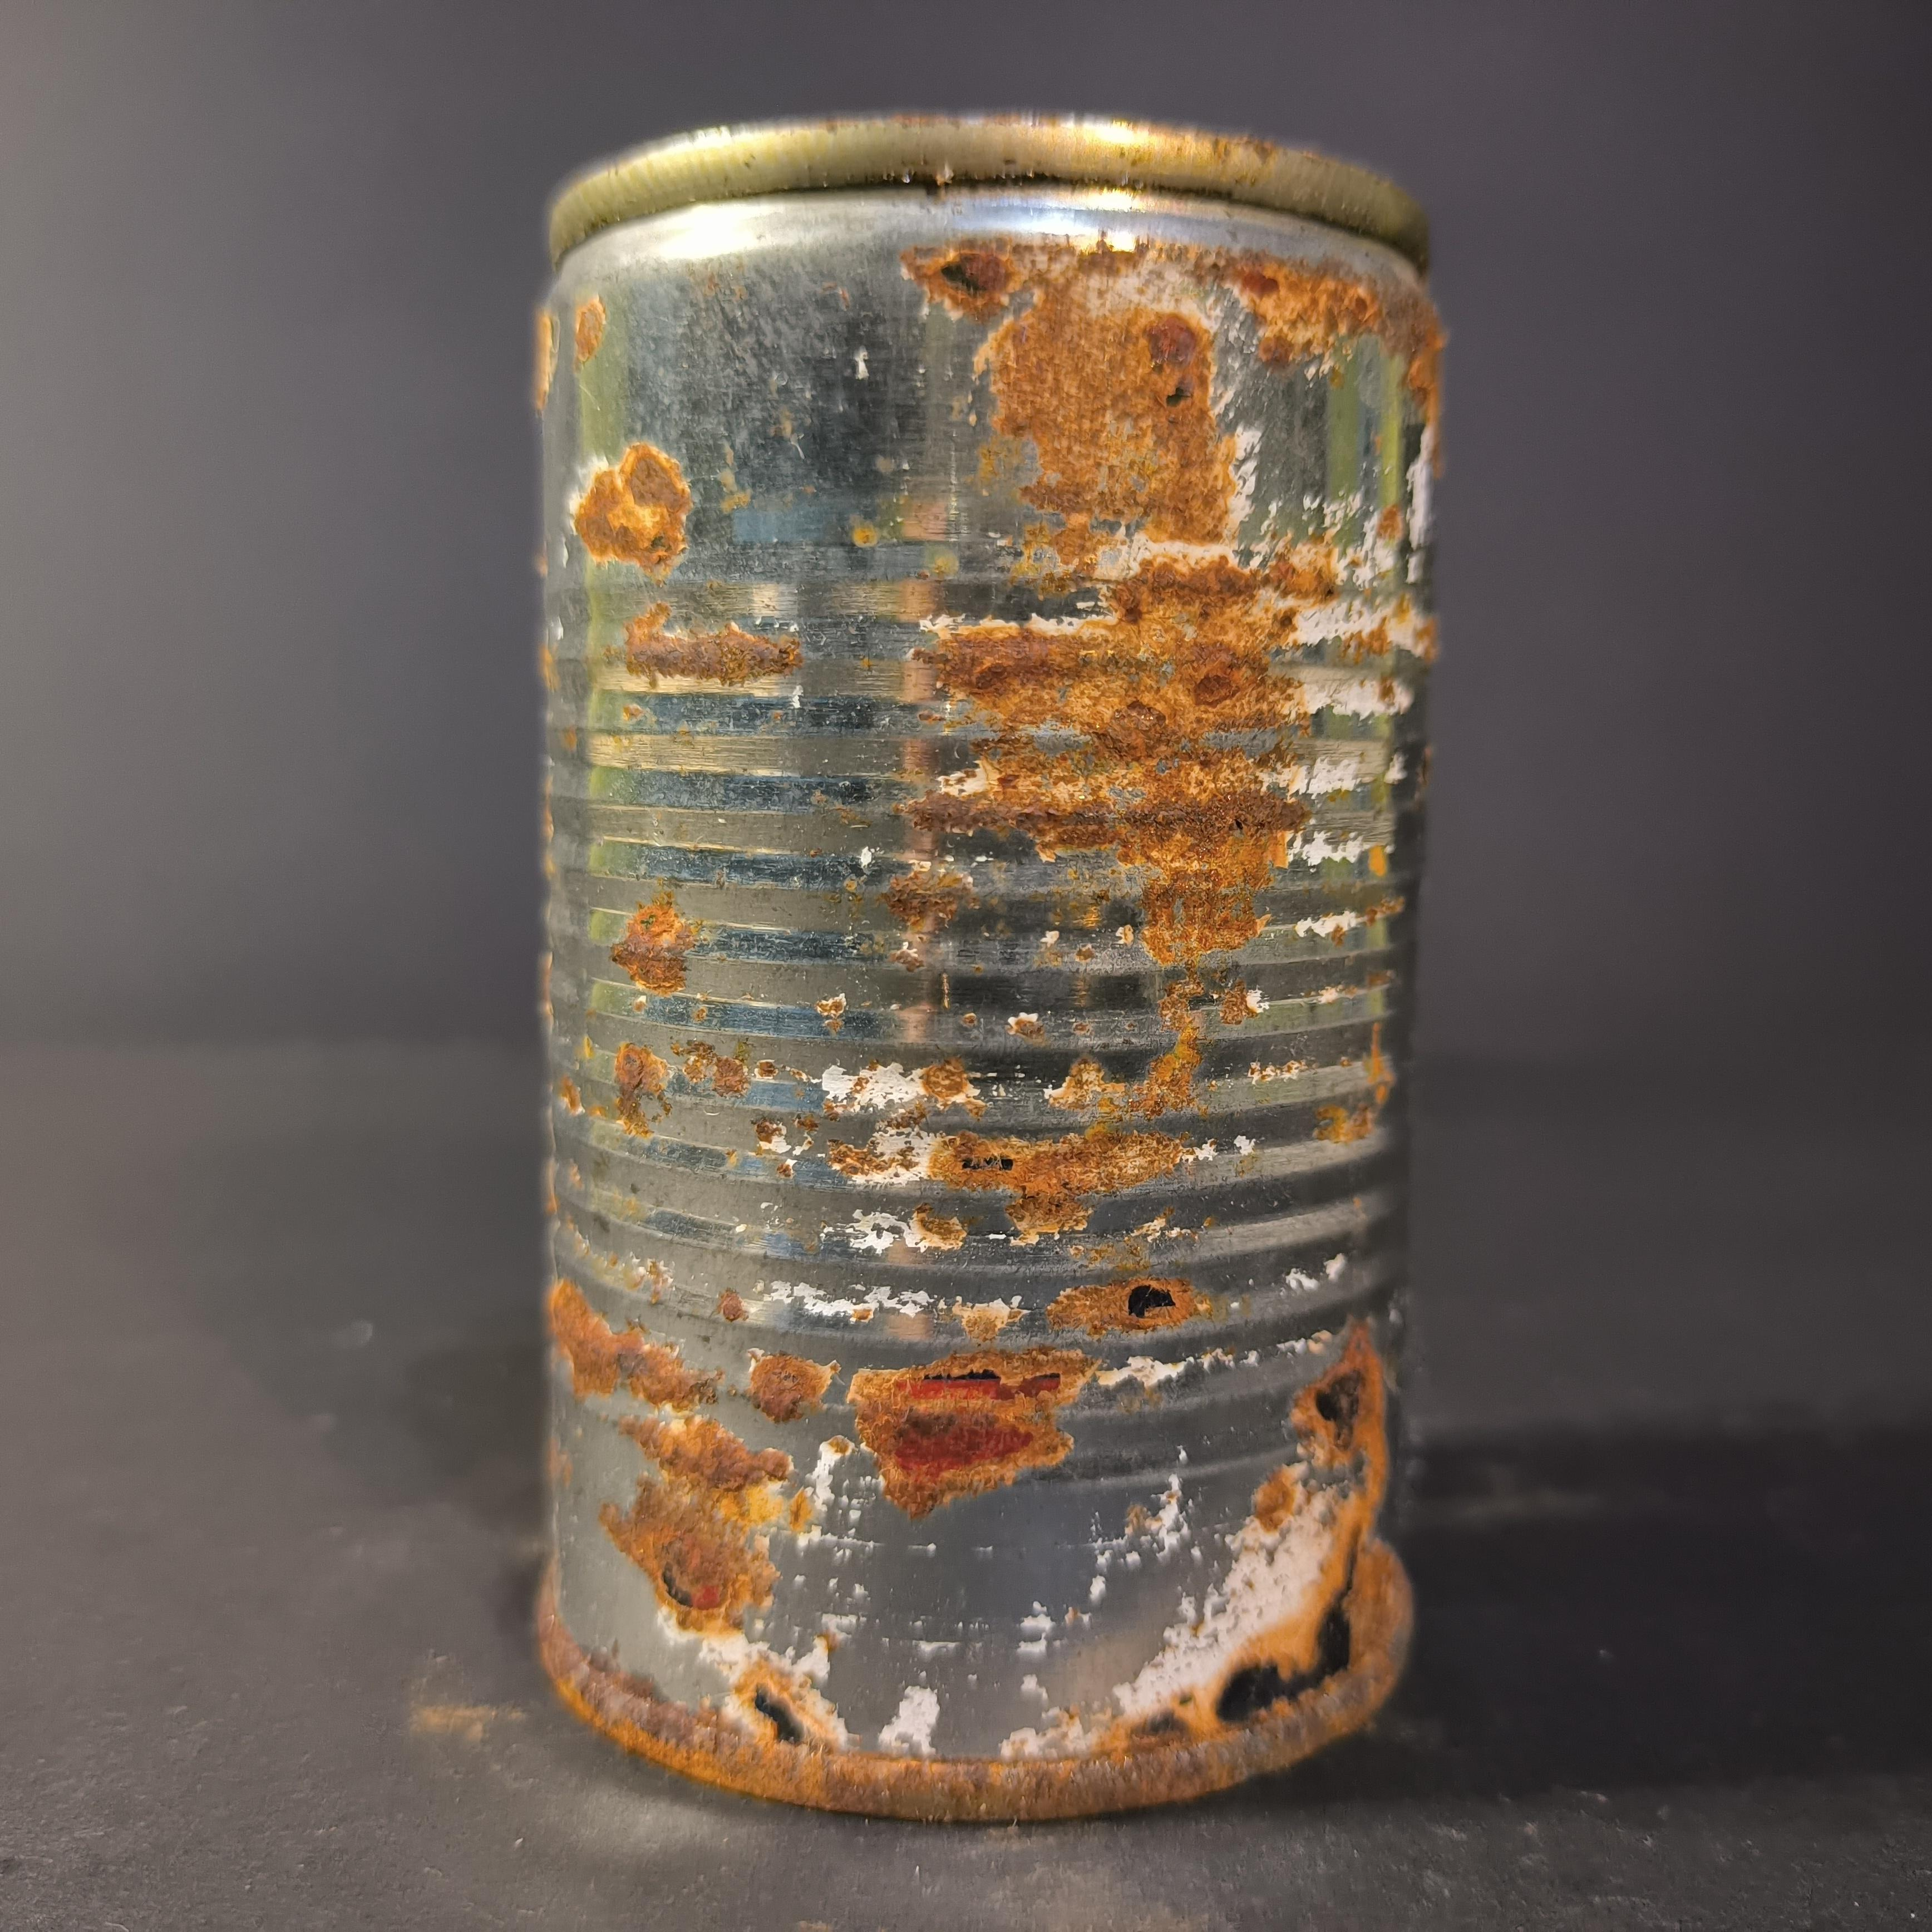Rusted: (511, 88, 1481, 1845)
